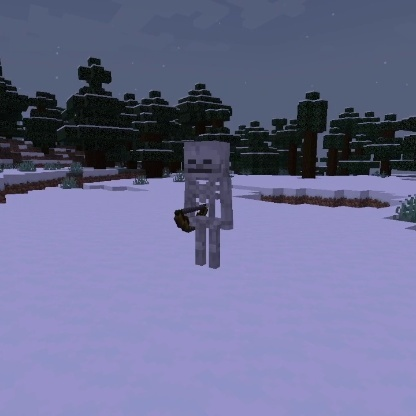skeleton: (171, 138, 237, 273)
